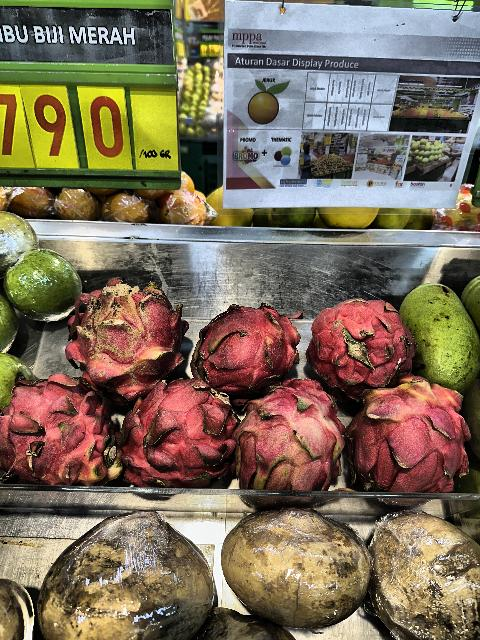buah-naga-belum-matang: (346, 369, 472, 497), (67, 282, 187, 398), (236, 380, 344, 508)
buah-naga-matang: (1, 370, 124, 498), (118, 376, 236, 492), (308, 291, 416, 391), (192, 294, 302, 392)
